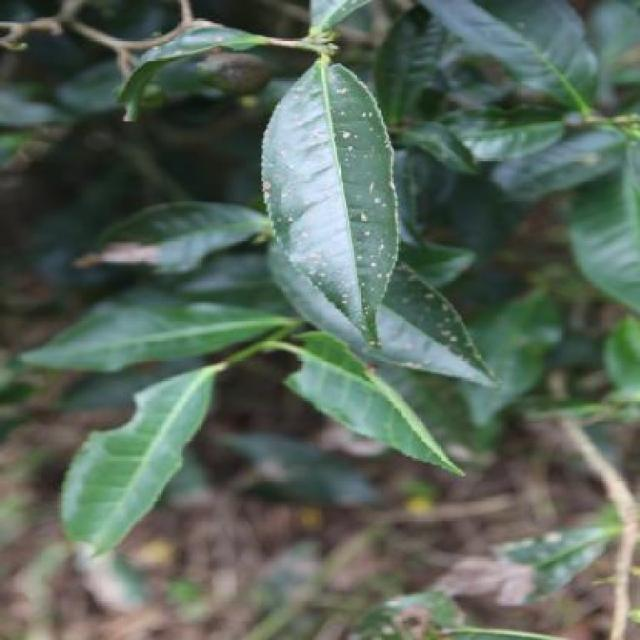Leaf rust of tea: (264, 57, 414, 352)
